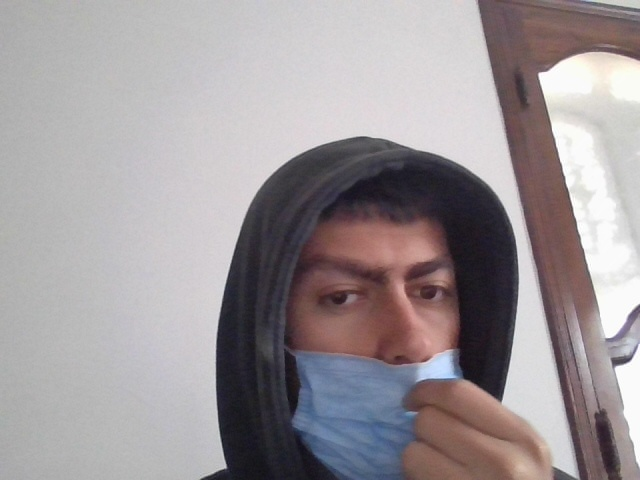mask_weared_incorrect: (266, 184, 498, 479)
